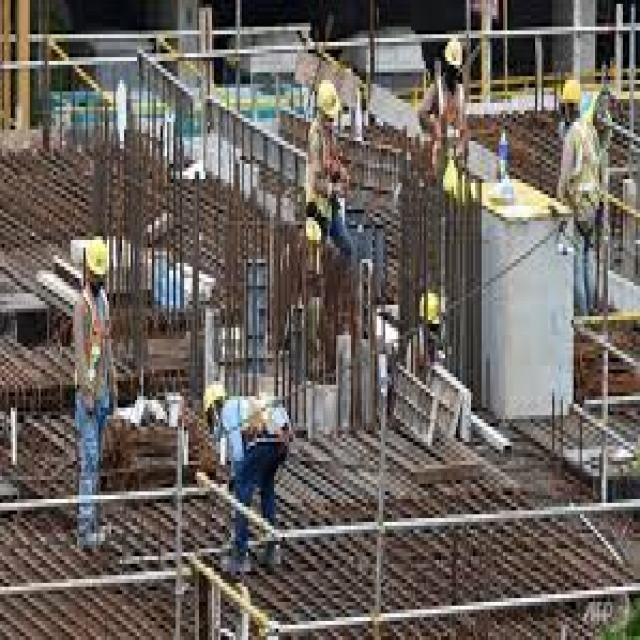Reflective-Jacket: (420, 72, 473, 210), (68, 286, 115, 392), (556, 118, 608, 213), (302, 118, 342, 213)
Safety-Helmet: (77, 228, 114, 286), (312, 76, 342, 126), (266, 396, 296, 442), (439, 31, 469, 76), (556, 69, 586, 114)
